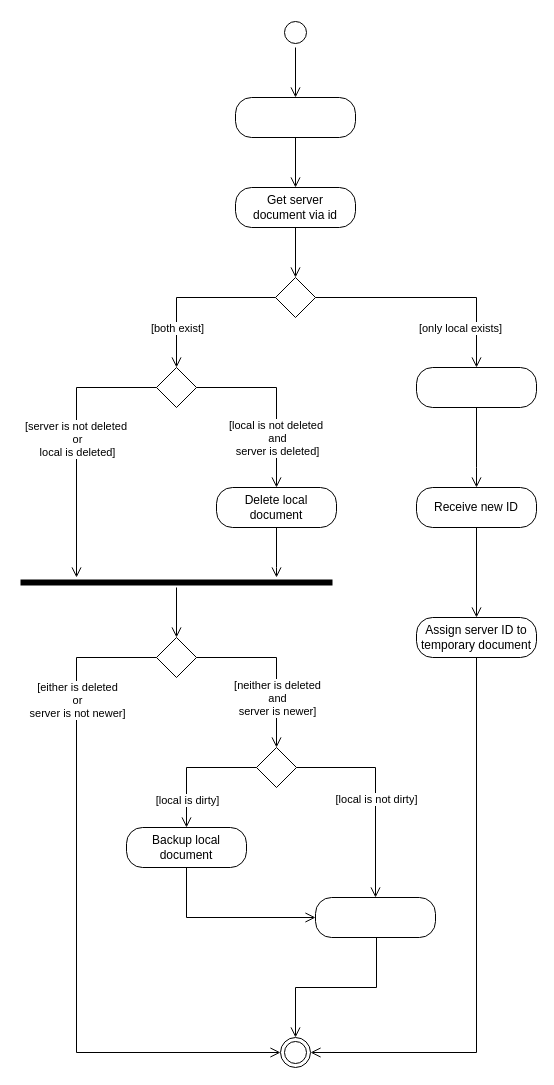
Image size: 554x1085. Some labels were removed from this diagram. The box of each missing label's shape, as (x1, y1, x2, y2) in pixels:
For each local document: (234, 96, 356, 138)
Post document to server: (416, 366, 536, 408)
Update local document: (314, 896, 436, 938)
